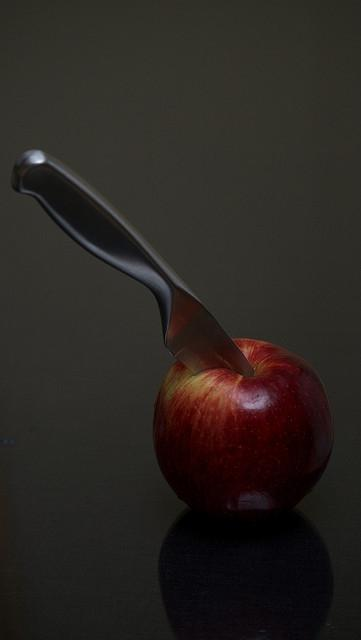apple: (151, 338, 334, 522)
